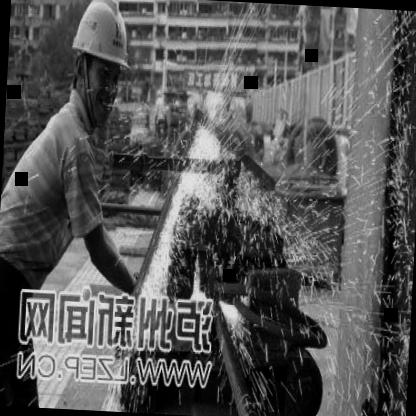helmet: (62, 0, 136, 126)
